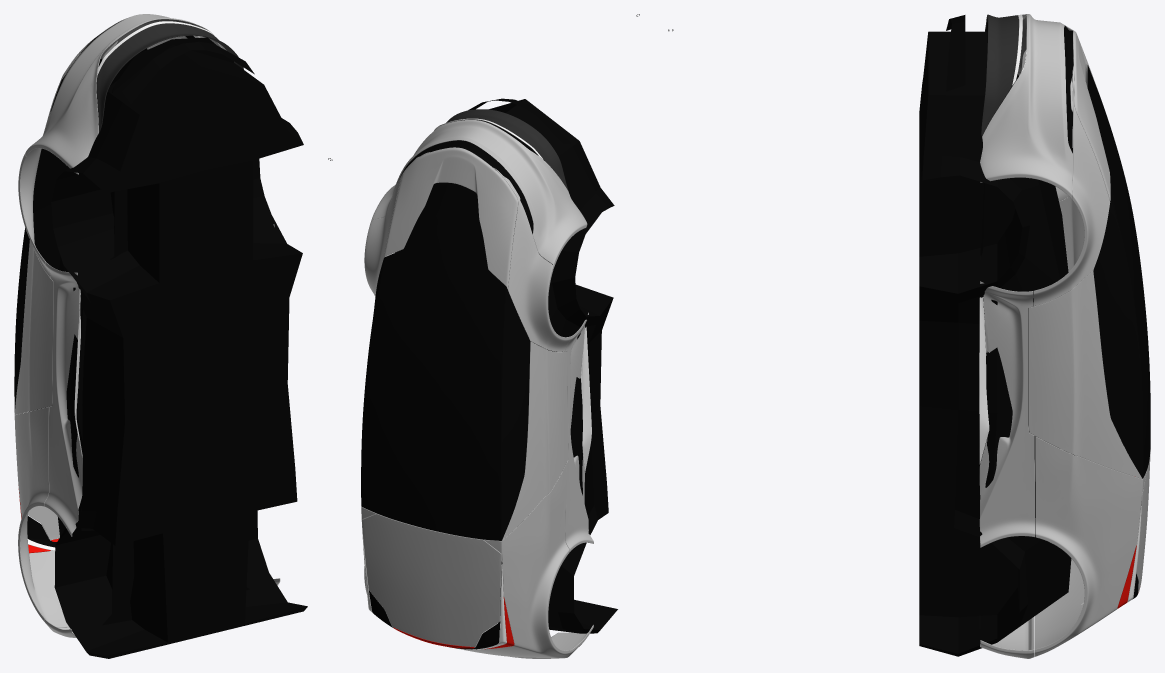
File: seraph-r.glb
The picture shows the model from 3 angles, left to right: view 1: azimuth 30°, elevation 25°; view 2: azimuth 150°, elevation 25°; view 3: azimuth 270°, elevation 25°; orthographic projection. The views are drawn at different scales.
Visible parts, largest first — view 1: Cube.039_blockers_0, Cube.044_body_color_supra.001_0, Cube.038_body_color_supra.001_0, Cube.042_body_color_supra.001_0, Cube.040_body_color_supra.001_0, Cube.028_blockers_0, Cube.032_plasticShiny_0, Cube.034_plasticMatte_0, Cube.051_blockers_0, Cube.033_body_color_supra.001_0, Cube.020_chrome_0, Cube.041_body_color_supra.001_0 (+1 smaller); view 2: Cube.032_plasticShiny_0, Cube.039_blockers_0, Cube.041_body_color_supra.001_0, Cube.042_body_color_supra.001_0, Cube.035_body_color_supra.001_0, Cube.038_body_color_supra.001_0, Cube.040_body_color_supra.001_0, Cube.033_body_color_supra.001_0, Cube.044_body_color_supra.001_0, Cube.020_chrome_0, Cube.034_plasticMatte_0, Cube.031_headlightCovers_0 (+4 smaller); view 3: Cube.039_blockers_0, Cube.042_body_color_supra.001_0, Cube.040_body_color_supra.001_0, Cube.032_plasticShiny_0, Cube.038_body_color_supra.001_0, Cube.044_body_color_supra.001_0, Cube.033_body_color_supra.001_0, Cube.034_plasticMatte_0, Cube.035_body_color_supra.001_0, Cube.020_chrome_0, Cube.051_blockers_0, Cube.043_body_color_supra.001_0 (+3 smaller).
Boxes of the visible parts, left/top/right/bottom form: Cube.039_blockers_0: left=51, top=45, right=307, bottom=658; Cube.044_body_color_supra.001_0: left=44, top=224, right=274, bottom=536; Cube.038_body_color_supra.001_0: left=26, top=14, right=226, bottom=174; Cube.042_body_color_supra.001_0: left=14, top=407, right=68, bottom=627; Cube.040_body_color_supra.001_0: left=14, top=240, right=53, bottom=414; Cube.028_blockers_0: left=77, top=37, right=249, bottom=624; Cube.032_plasticShiny_0: left=14, top=48, right=147, bottom=547; Cube.034_plasticMatte_0: left=96, top=23, right=243, bottom=132; Cube.051_blockers_0: left=121, top=42, right=254, bottom=104; Cube.033_body_color_supra.001_0: left=18, top=40, right=91, bottom=277; Cube.020_chrome_0: left=16, top=21, right=219, bottom=550; Cube.041_body_color_supra.001_0: left=28, top=406, right=59, bottom=540; Cube.032_plasticShiny_0: left=361, top=184, right=530, bottom=649; Cube.039_blockers_0: left=395, top=99, right=617, bottom=633; Cube.041_body_color_supra.001_0: left=361, top=513, right=501, bottom=647; Cube.042_body_color_supra.001_0: left=361, top=465, right=569, bottom=658; Cube.035_body_color_supra.001_0: left=383, top=147, right=517, bottom=289; Cube.038_body_color_supra.001_0: left=371, top=120, right=587, bottom=268; Cube.040_body_color_supra.001_0: left=502, top=341, right=568, bottom=540; Cube.033_body_color_supra.001_0: left=364, top=152, right=570, bottom=351; Cube.044_body_color_supra.001_0: left=565, top=312, right=593, bottom=551; Cube.020_chrome_0: left=362, top=118, right=591, bottom=649; Cube.034_plasticMatte_0: left=446, top=109, right=568, bottom=190; Cube.031_headlightCovers_0: left=394, top=119, right=537, bottom=233; Cube.039_blockers_0: left=919, top=31, right=1074, bottom=656; Cube.042_body_color_supra.001_0: left=1035, top=378, right=1146, bottom=656; Cube.040_body_color_supra.001_0: left=1029, top=196, right=1142, bottom=478; Cube.032_plasticShiny_0: left=1087, top=65, right=1150, bottom=599; Cube.038_body_color_supra.001_0: left=980, top=14, right=1072, bottom=198; Cube.044_body_color_supra.001_0: left=979, top=281, right=1035, bottom=547; Cube.033_body_color_supra.001_0: left=1033, top=62, right=1110, bottom=306; Cube.034_plasticMatte_0: left=981, top=14, right=1018, bottom=135; Cube.035_body_color_supra.001_0: left=1073, top=31, right=1110, bottom=200; Cube.020_chrome_0: left=979, top=14, right=1141, bottom=604; Cube.051_blockers_0: left=946, top=15, right=965, bottom=91; Cube.043_body_color_supra.001_0: left=980, top=616, right=1034, bottom=658.
Size of the model in its own units: 164 by 455 by 328.
13 materials, 1 textured.
